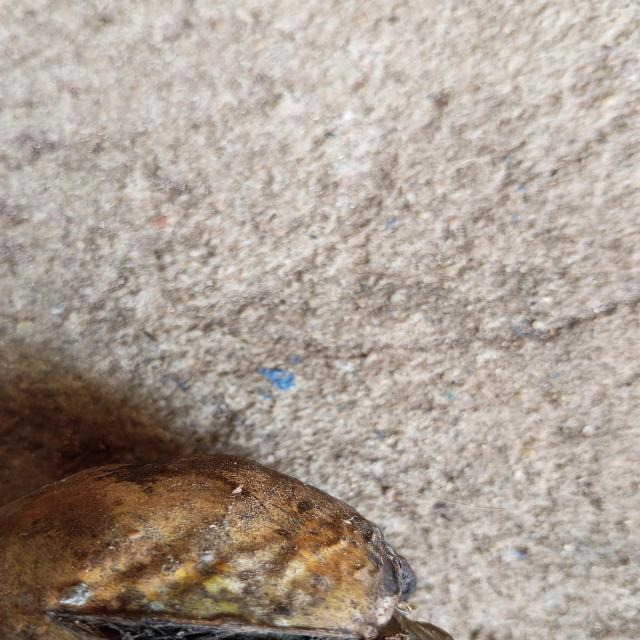damaged: (0, 454, 454, 640)
